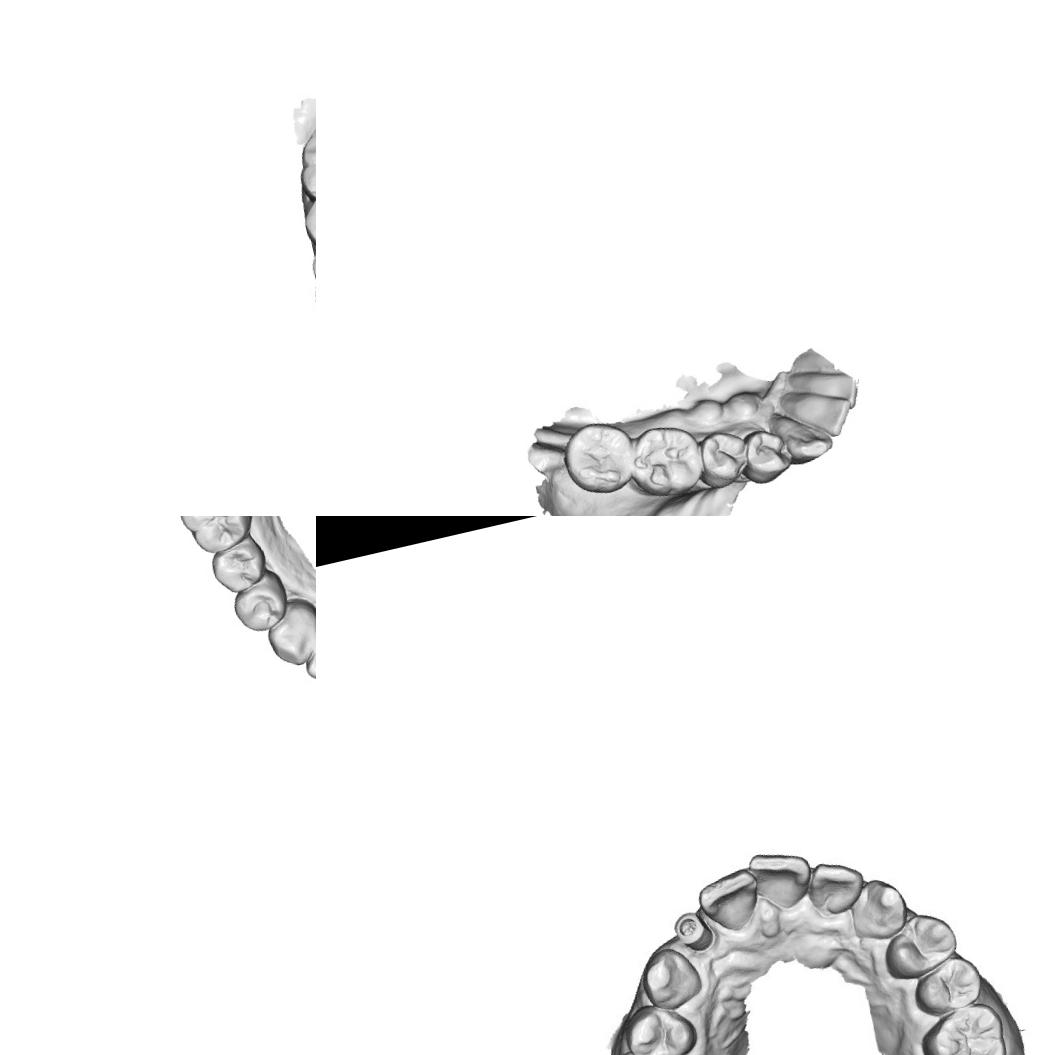canine: (766, 400, 837, 470), (845, 878, 912, 946), (260, 593, 316, 670), (638, 946, 702, 1004)
implant: (672, 910, 717, 958)
incisor: (747, 842, 816, 911), (700, 870, 761, 936), (806, 854, 867, 916), (800, 390, 858, 443), (822, 365, 865, 414), (293, 611, 316, 689)
molar: (620, 418, 708, 504), (557, 414, 642, 501), (914, 995, 1024, 1055), (171, 516, 262, 560), (287, 115, 316, 211)
premolar: (225, 566, 294, 638), (886, 912, 959, 978), (732, 422, 798, 488), (693, 424, 755, 492), (206, 535, 272, 598), (621, 1000, 695, 1055), (915, 959, 983, 1013), (297, 185, 316, 248)
